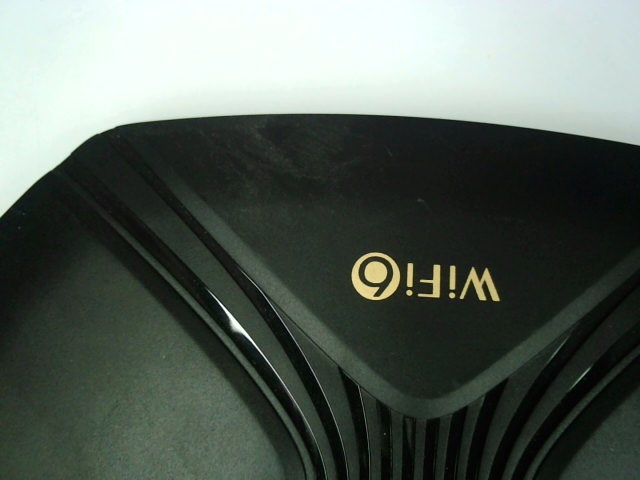AK_ZTEWIFI6Black: (338, 241, 504, 316)
